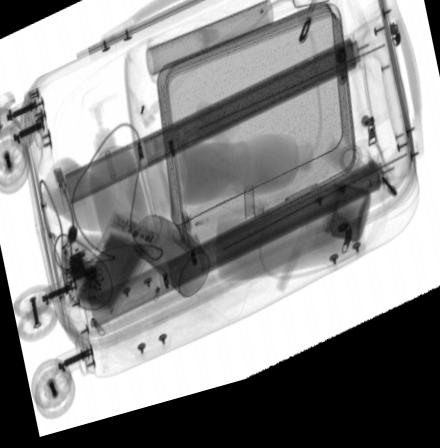Powerbank: (72, 216, 159, 321)
